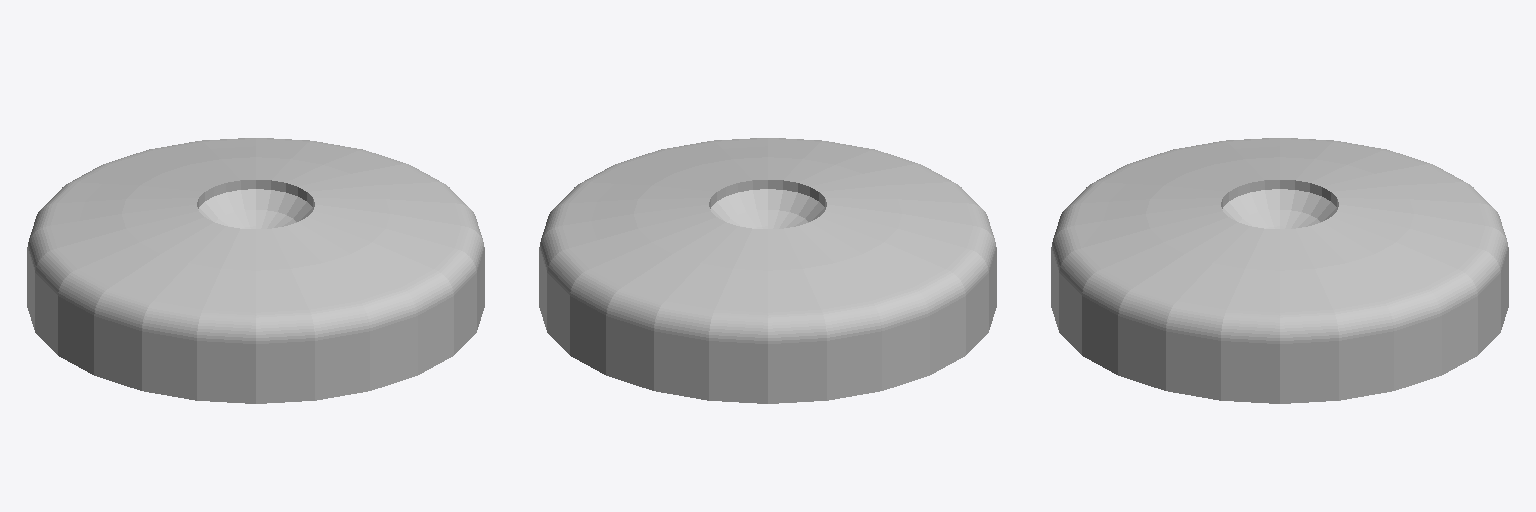
File: CrystalPedestal.obj
The picture shows the model from 3 angles: view 1: azimuth 30°, elevation 25°; view 2: azimuth 150°, elevation 25°; view 3: azimuth 270°, elevation 25°; orthographic projection.
Parts seen in each view (by area): view 1: none; view 2: none; view 3: none.
Part boxes in pixels (x1,y1,x2,y2): none: (27,138,484,403); none: (539,138,996,403); none: (1051,138,1508,403).
Size of the model in its own units: 3.5 by 0.87 by 3.5.